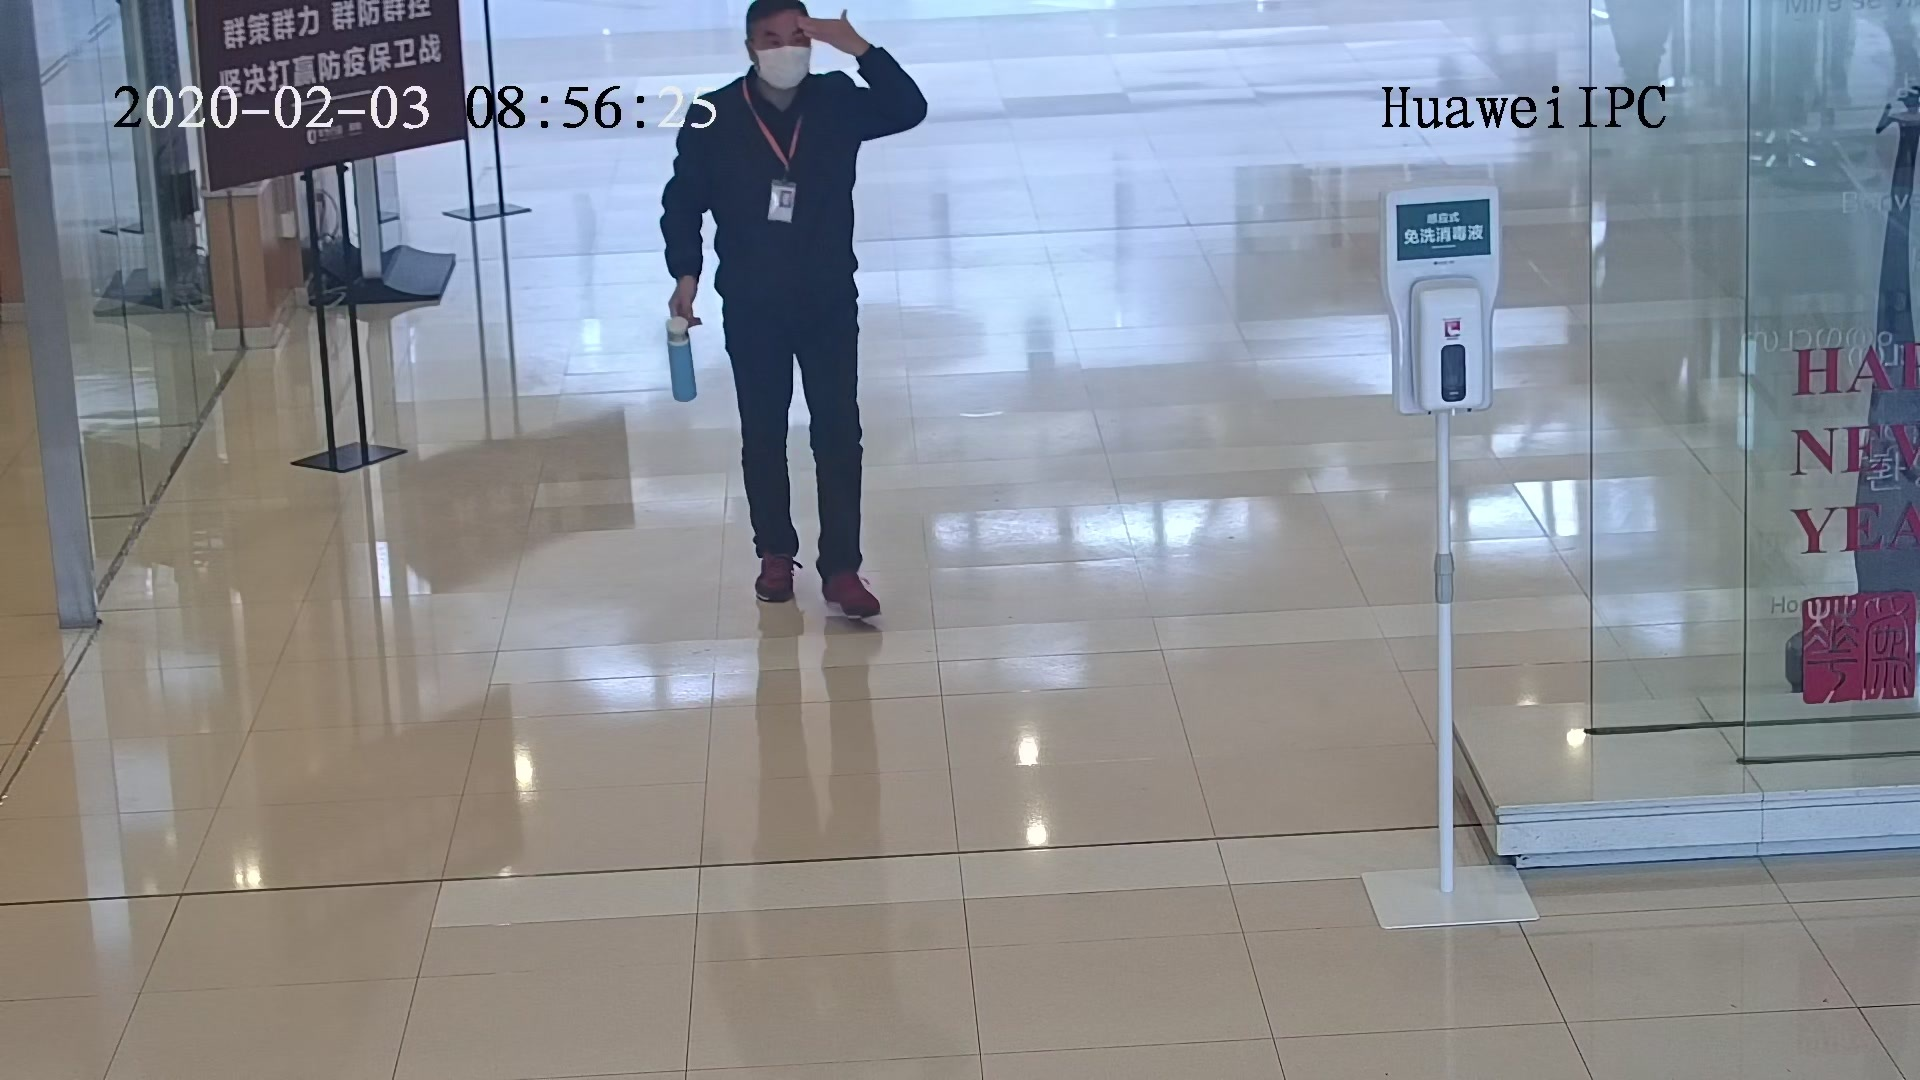face: (751, 10, 810, 88)
mask: (758, 49, 810, 83)
person: (693, 3, 864, 128)
